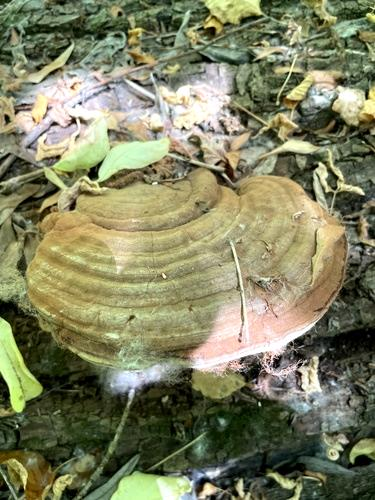Ganoderma - Fruit Body: (32, 168, 351, 371)
